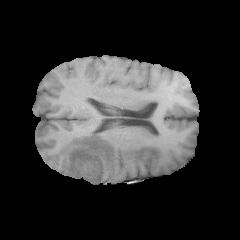glioma: (59, 132, 116, 183)
